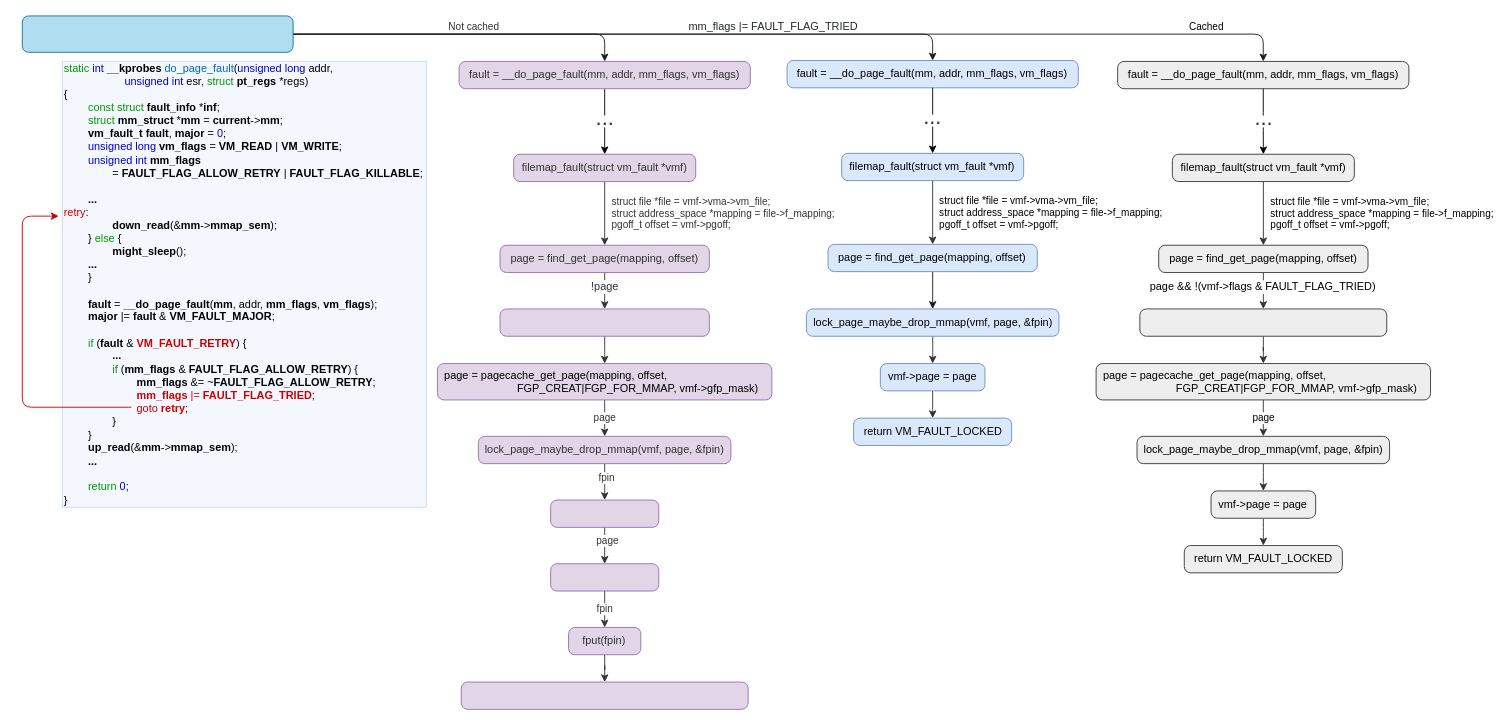
Image size: 1510x725. Some labels were removed from this diagram. The centre of each missing label's shape, as x and y in pixels:
"do_page_fault(unsigned long addr, unsigned int esr, struct pt_regs *regs)" belongs at [157,33].
"fpin = do_async_mmap_readahead(vmf, page)" belongs at [1263,322].
"fpin = do_sync_mmap_readahead(vmf)" belongs at [604,322].
"put_page(page)" belongs at [604,577].
"return VM_FAULT_MAJOR | VM_FAULT_RETRY" belongs at [604,695].
"unlock_page(page)" belongs at [604,513].
